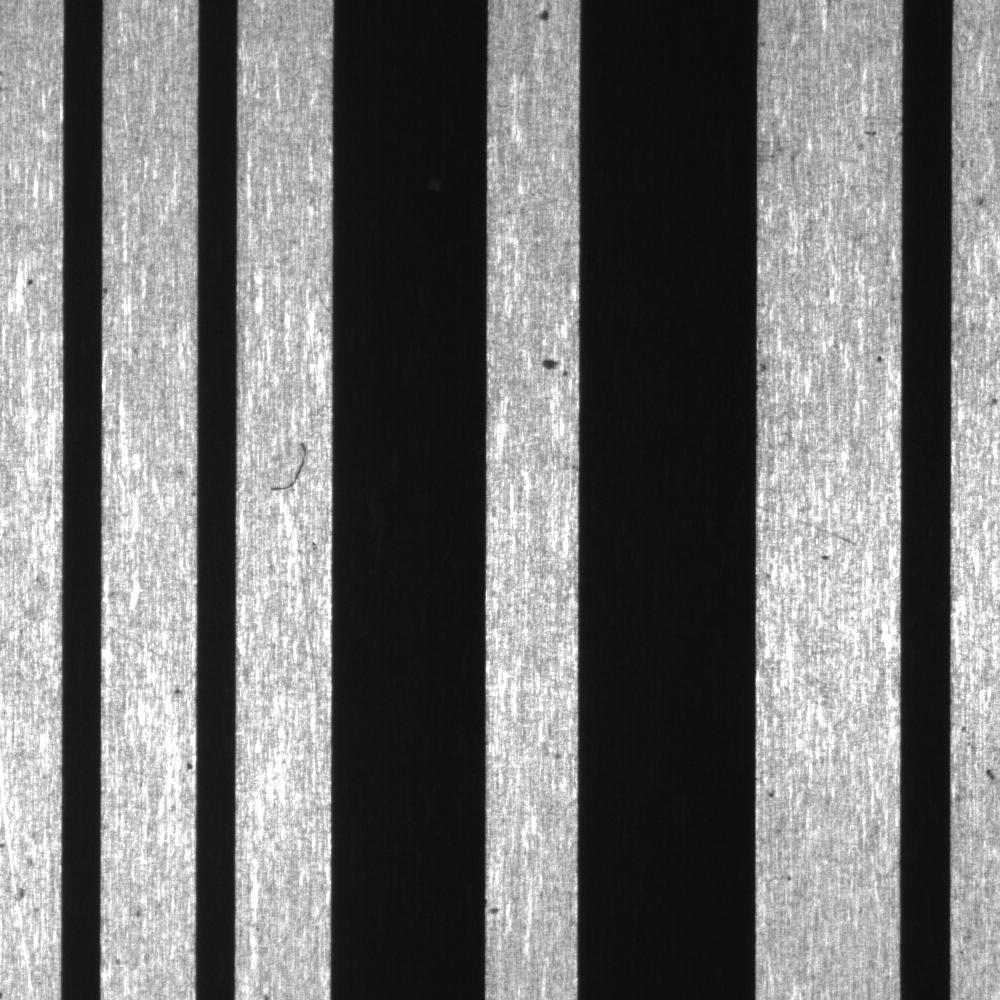Etching: (949, 718, 999, 806), (1, 831, 45, 918), (527, 340, 578, 395), (849, 109, 901, 156), (752, 332, 781, 406), (523, 1, 565, 40), (485, 892, 507, 929), (174, 746, 198, 777), (18, 267, 41, 295)
Pinhole: (759, 773, 793, 813), (863, 341, 891, 374), (164, 680, 187, 701)
Scar: (757, 493, 876, 550), (101, 609, 195, 676), (260, 417, 317, 517)
